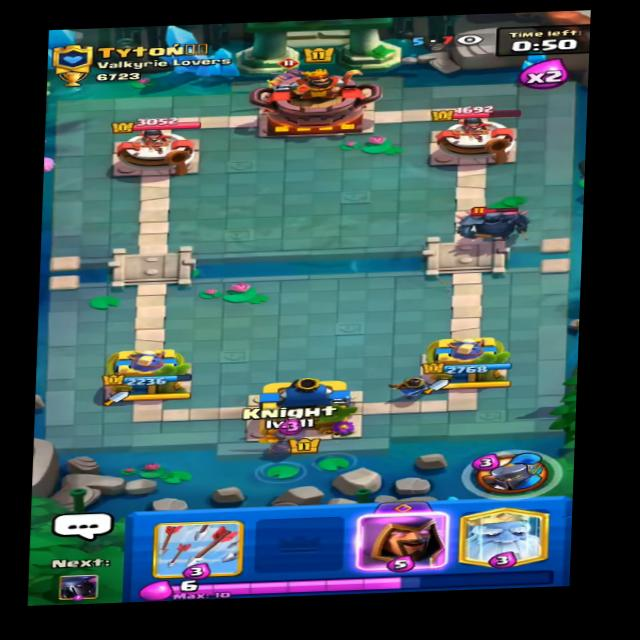evo-knight: (253, 60, 325, 105)
pekka: (454, 198, 536, 249)
